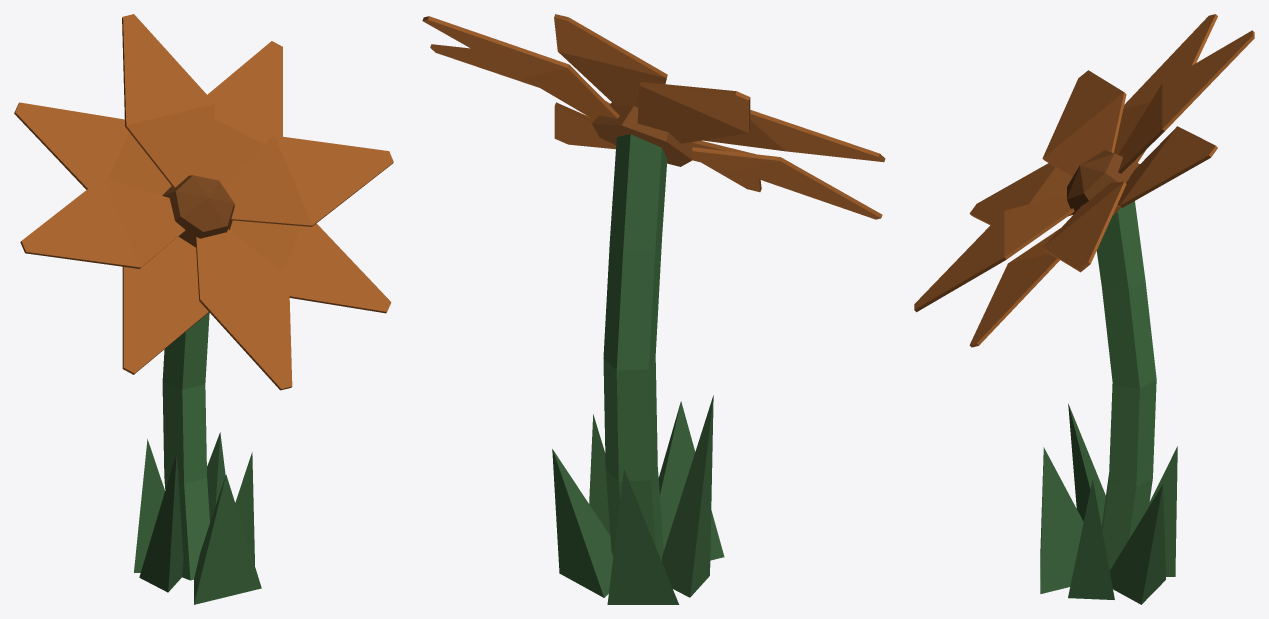
Rendered from Flower_1_Orange.fbx.
3 renders of one model, left to right at view 1: azimuth 30°, elevation 25°; view 2: azimuth 150°, elevation 25°; view 3: azimuth 270°, elevation 25°, orthographic. The views are drawn at different scales.
Visible parts, largest first — view 1: Flower_1_Orange; view 2: Flower_1_Orange; view 3: Flower_1_Orange.
Boxes of the visible parts, bbox=[...] form: Flower_1_Orange: bbox=[14, 14, 393, 604]; Flower_1_Orange: bbox=[422, 14, 885, 604]; Flower_1_Orange: bbox=[914, 14, 1254, 604].
Bounding box in the file's own units: 18.76 × 24.83 × 14.08.
